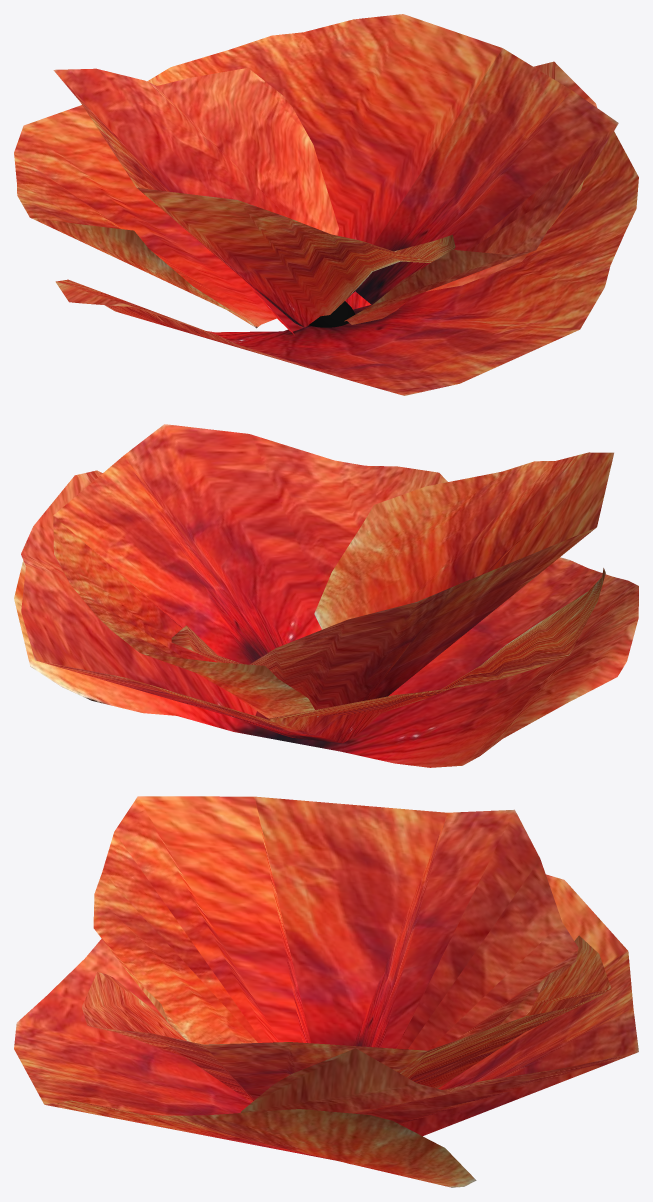
The picture shows the model from 3 angles, top to bottom: view 1: azimuth 30°, elevation 25°; view 2: azimuth 150°, elevation 25°; view 3: azimuth 270°, elevation 25°; orthographic projection.
Parts seen in each view (by area): view 1: 380d82c4; view 2: 380d82c4; view 3: 380d82c4.
Boxes of the visible parts, box(x1,y1,x2,y2) form: 380d82c4: box(14, 14, 638, 395); 380d82c4: box(14, 424, 638, 767); 380d82c4: box(14, 796, 638, 1187).
Bounding box in the file's own units: 0.0971 × 0.045 × 0.0977.
2 materials, 1 textured.
